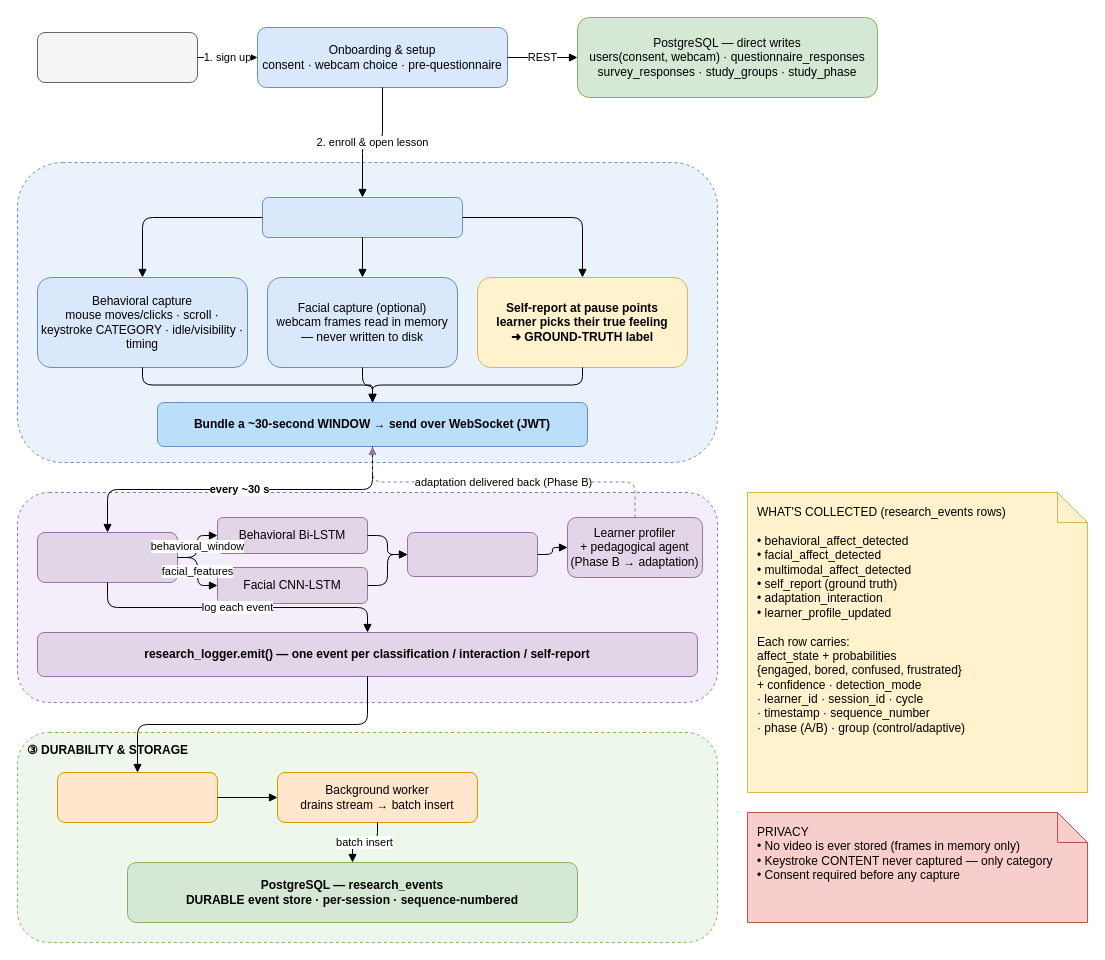
This 1105x960 diagram has some shape labels left out. Each missing label, with the box of its shape:
Late fusion → multimodal affect: (406, 532, 538, 576)
Redis stream (best-effort buffer): (56, 772, 218, 822)
Study a lesson: (262, 196, 462, 238)
WebSocket handler auth + dispatch: (36, 532, 178, 582)
① BROWSER (participant's device — capture & stream): (16, 162, 718, 462)
② BACKEND (FastAPI + LangGraph agent loop): (16, 492, 718, 702)
👤 Participant: (36, 32, 198, 82)
